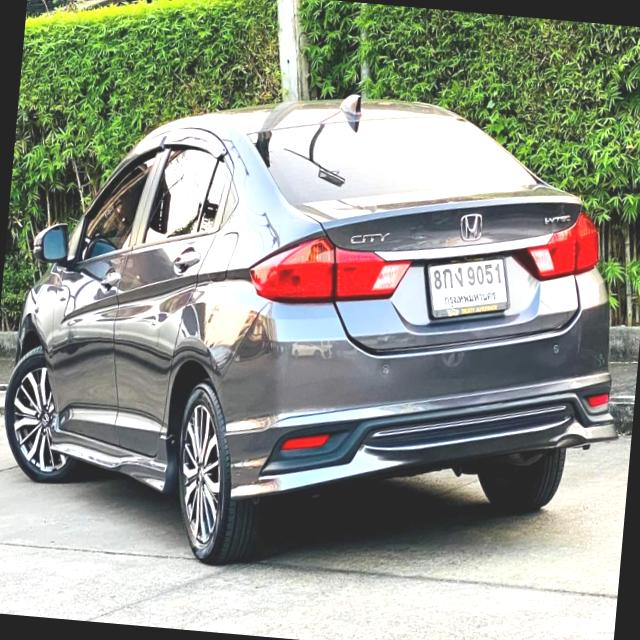license_plate: (415, 246, 518, 334)
